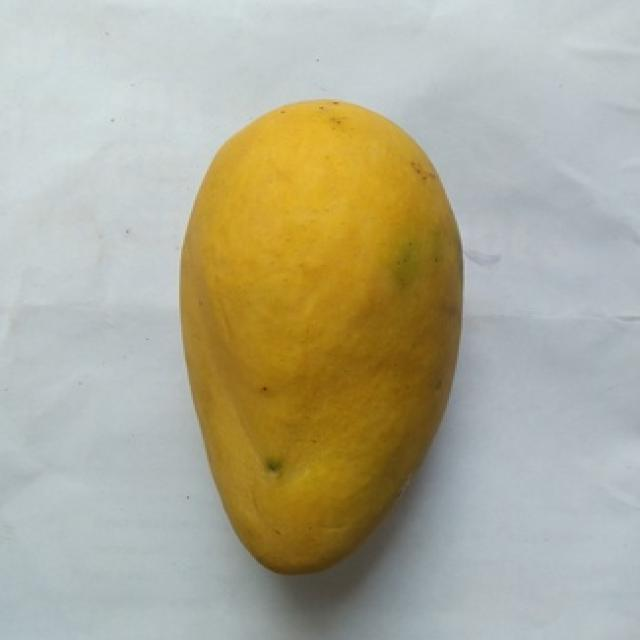Mango: (181, 101, 461, 573)
